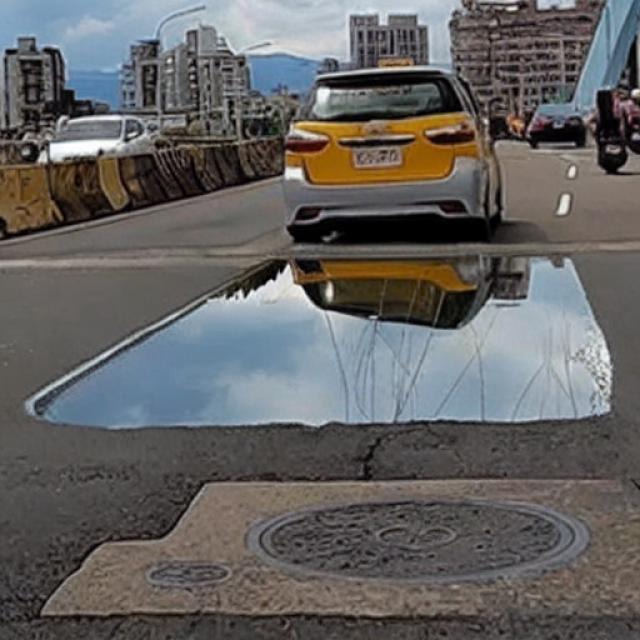puddle: (34, 252, 614, 430)
